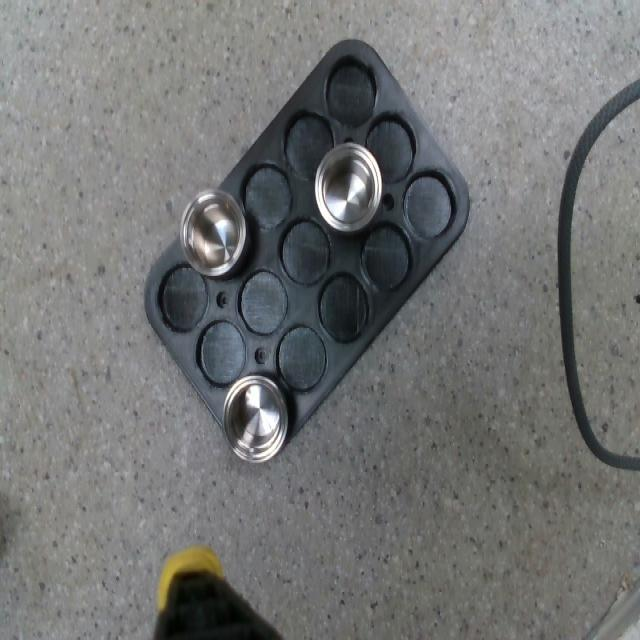sensor: (314, 142, 382, 234), (179, 189, 248, 278), (222, 374, 288, 463)
